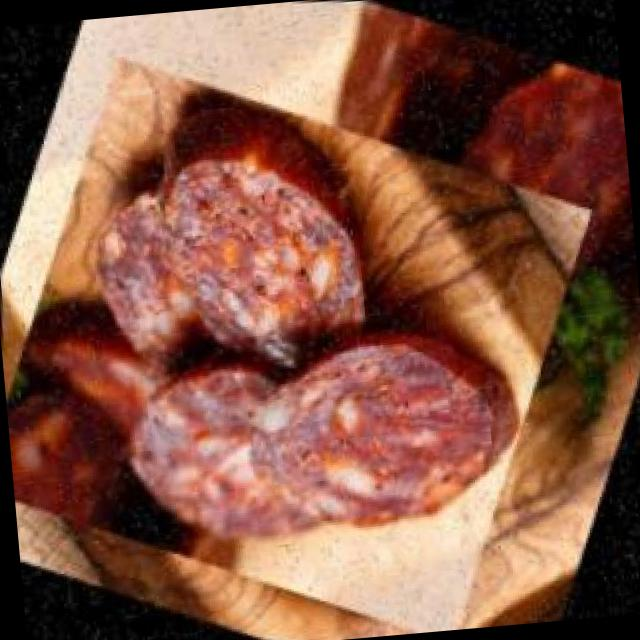chinese_sausage: (0, 2, 638, 640)
